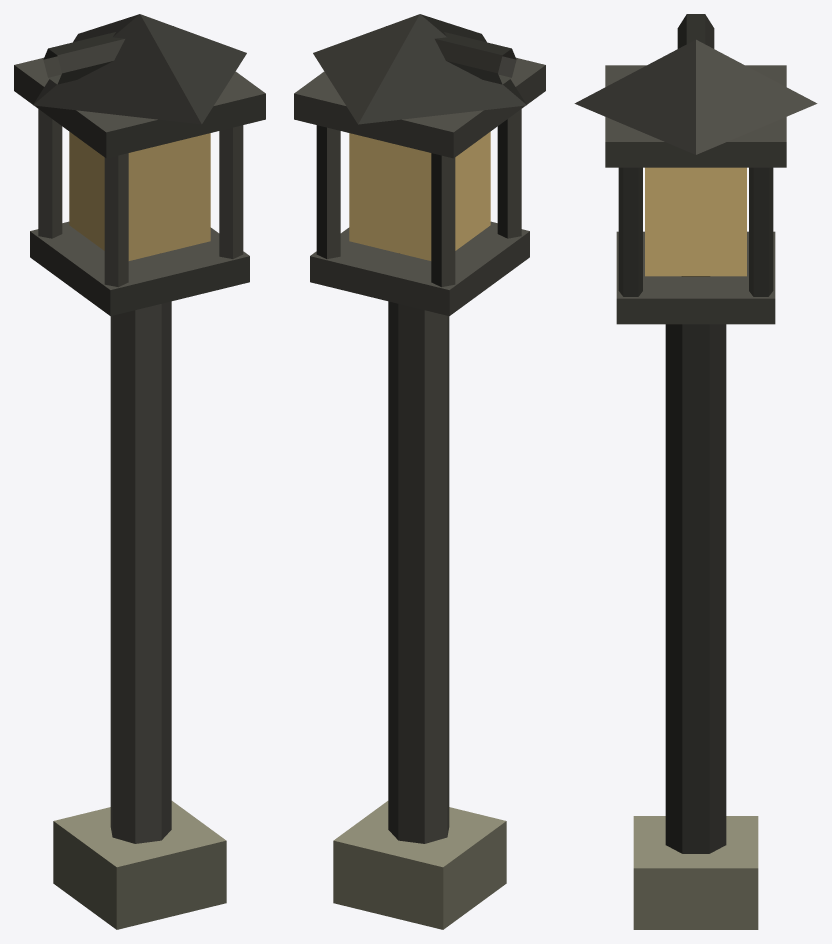
3 views of the same model, side by side, from view 1: azimuth 30°, elevation 25°; view 2: azimuth 150°, elevation 25°; view 3: azimuth 270°, elevation 25° (orthographic).
Parts seen in each view (by area): view 1: 396d27a078e2bf2f1721901d9c95bd987ef2499778a3ccacb2e085f5f482; view 2: 396d27a078e2bf2f1721901d9c95bd987ef2499778a3ccacb2e085f5f482; view 3: 396d27a078e2bf2f1721901d9c95bd987ef2499778a3ccacb2e085f5f482.
Part boxes in pixels (x1,y1,x2,y2): 396d27a078e2bf2f1721901d9c95bd987ef2499778a3ccacb2e085f5f482: (14,14,265,929); 396d27a078e2bf2f1721901d9c95bd987ef2499778a3ccacb2e085f5f482: (294,14,545,929); 396d27a078e2bf2f1721901d9c95bd987ef2499778a3ccacb2e085f5f482: (574,14,817,929).
Size of the model in its own units: 0.86 by 3.37 by 0.86.
2 materials, 1 textured.
